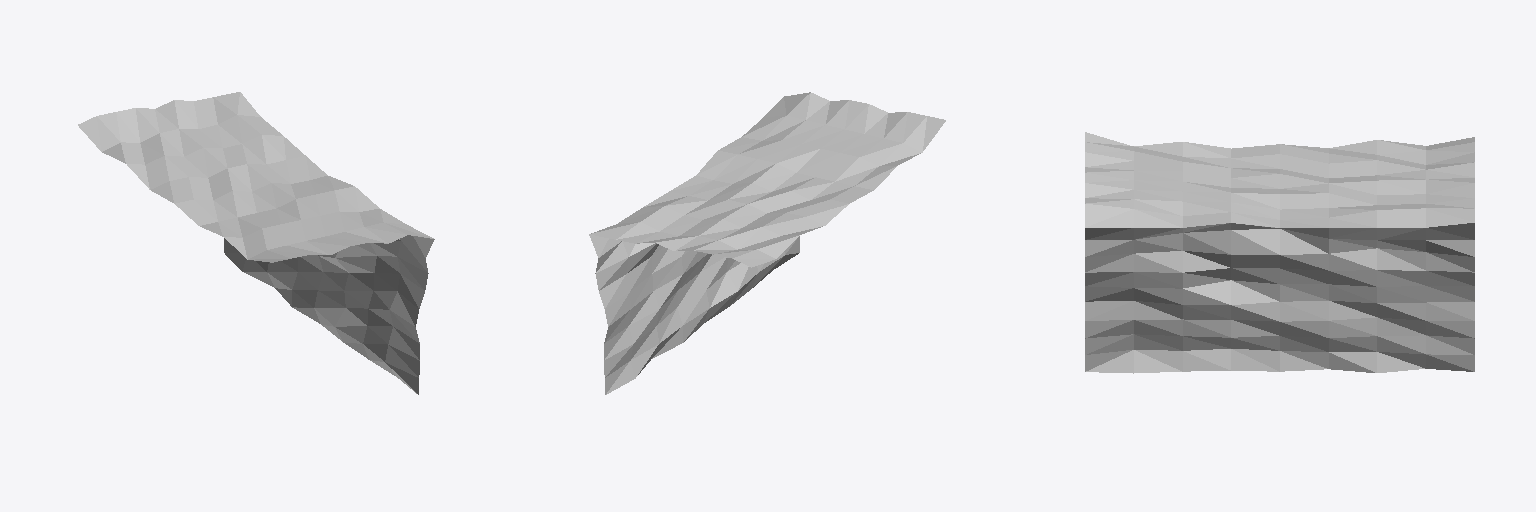
File: Morro-01.obj
3 views of the same model, side by side, from view 1: azimuth 30°, elevation 25°; view 2: azimuth 150°, elevation 25°; view 3: azimuth 270°, elevation 25° (orthographic).
Parts seen in each view (by area): view 1: Plane.001; view 2: Plane.001; view 3: Plane.001.
Boxes of the visible parts, x1,y1,x2,y2 form: Plane.001: [78, 92, 434, 394]; Plane.001: [589, 92, 945, 394]; Plane.001: [1085, 132, 1474, 373].
Bounding box in the file's own units: 7.03 × 6.94 × 14.54.